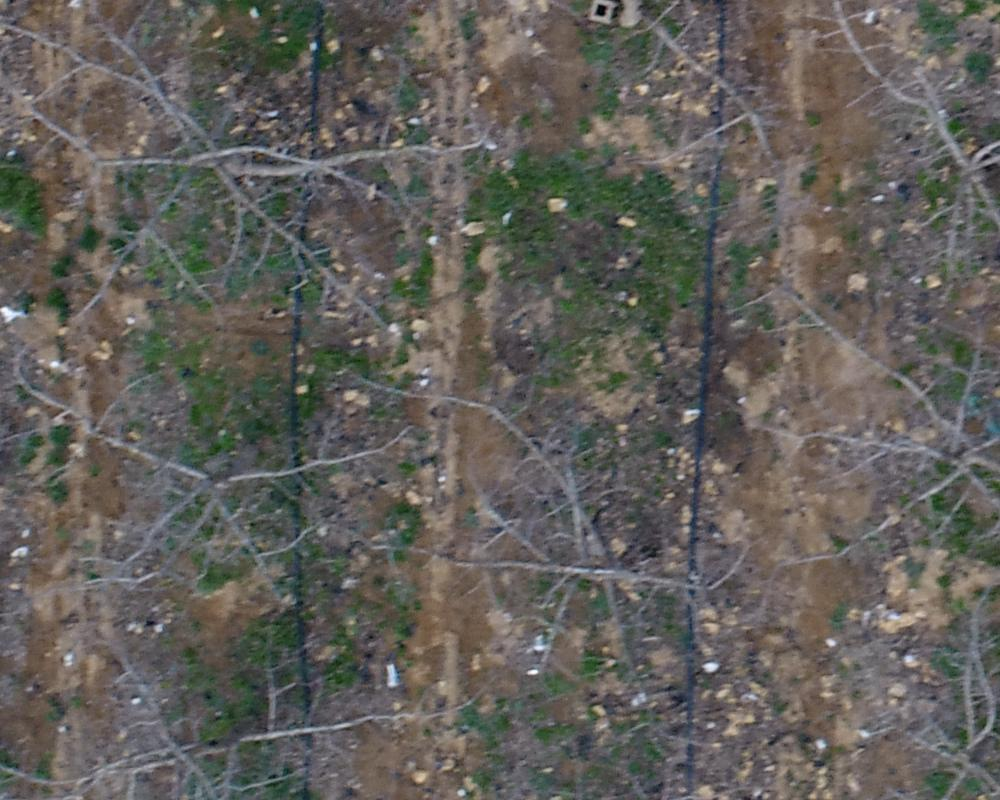apple: (10, 10, 497, 371), (349, 355, 769, 699), (10, 336, 417, 624), (740, 278, 990, 601), (775, 10, 990, 358), (10, 628, 451, 790), (419, 10, 817, 181)
